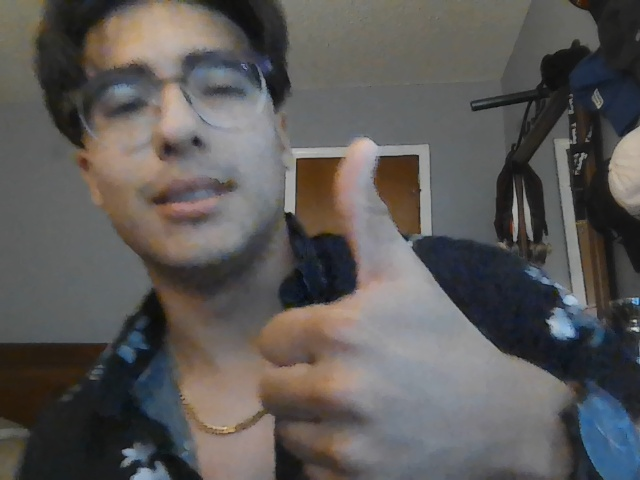ThumbsUp: (259, 135, 640, 480)
